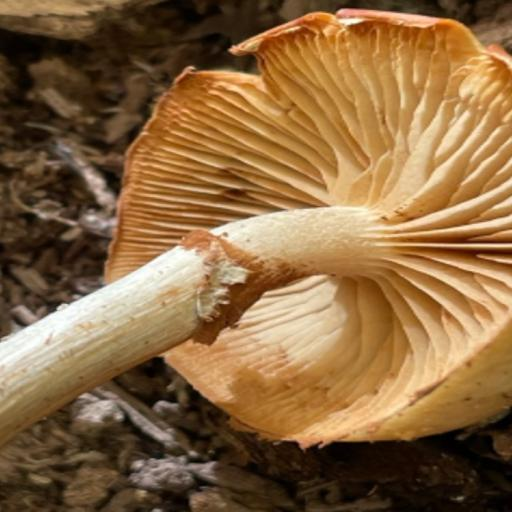mushroom: (64, 3, 512, 456)
